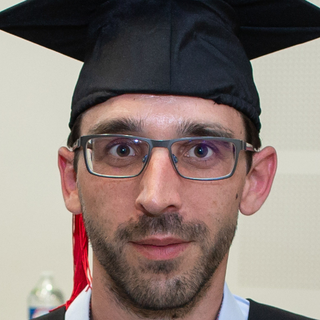eye: (180, 140, 223, 164), (101, 138, 143, 162)
